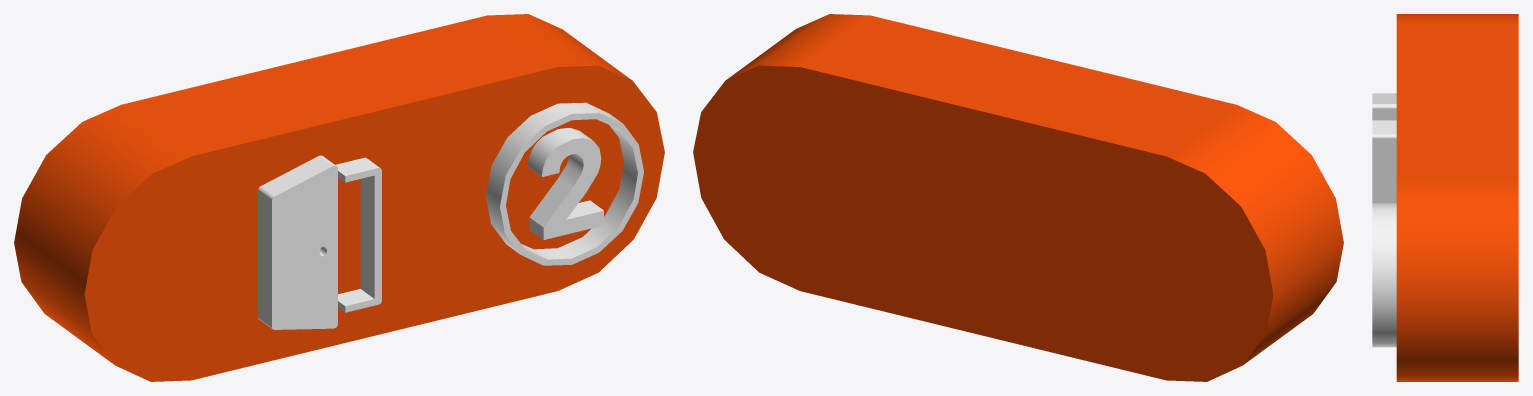
File: Door_2.fbx
The picture shows the model from 3 angles, left to right: view 1: azimuth 30°, elevation 25°; view 2: azimuth 150°, elevation 25°; view 3: azimuth 270°, elevation 25°; orthographic projection. The views are drawn at different scales.
Parts seen in each view (by area): view 1: Orange, Object_1, Object_5, Object_6, Object_3; view 2: Orange; view 3: Orange, Object_5, Object_3, Object_1.
Boxes of the visible parts, box(x1,y1,x2,y2) form: Orange: box(14, 14, 664, 381); Object_1: box(258, 155, 337, 329); Object_5: box(485, 102, 643, 265); Object_6: box(527, 127, 603, 239); Object_3: box(335, 157, 381, 312); Orange: box(693, 14, 1343, 381); Orange: box(1396, 14, 1518, 381); Object_5: box(1372, 203, 1396, 347); Object_3: box(1372, 120, 1396, 203); Object_1: box(1372, 93, 1396, 120).
Size of the model in its own units: 4.75 by 1.2 by 1.75.
